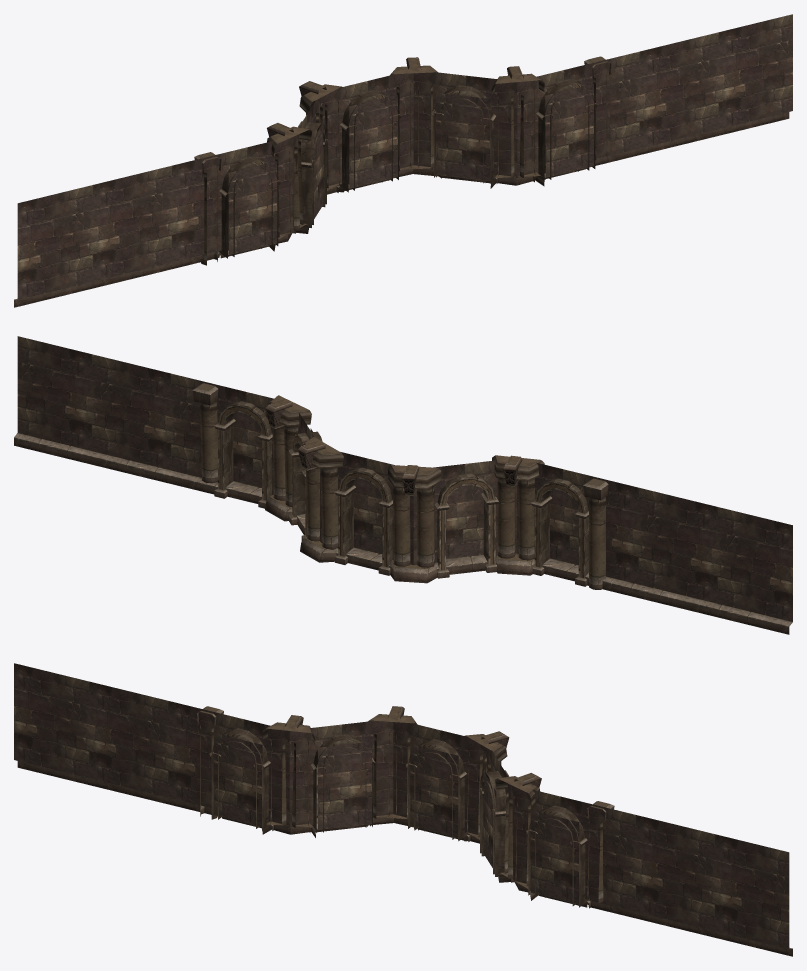
Rendered from arch_wall.FBX.
3 renders of one model, top to bottom at view 1: azimuth 30°, elevation 25°; view 2: azimuth 150°, elevation 25°; view 3: azimuth 330°, elevation 25°, orthographic.
Visible parts, largest first — view 1: arch_wall; view 2: arch_wall; view 3: arch_wall.
Part boxes in pixels (x1,y1,x2,y2): arch_wall: (14,14,792,307); arch_wall: (14,336,792,634); arch_wall: (14,663,792,956).
Bounding box in the file's own units: 43.29 × 5.92 × 5.51.
